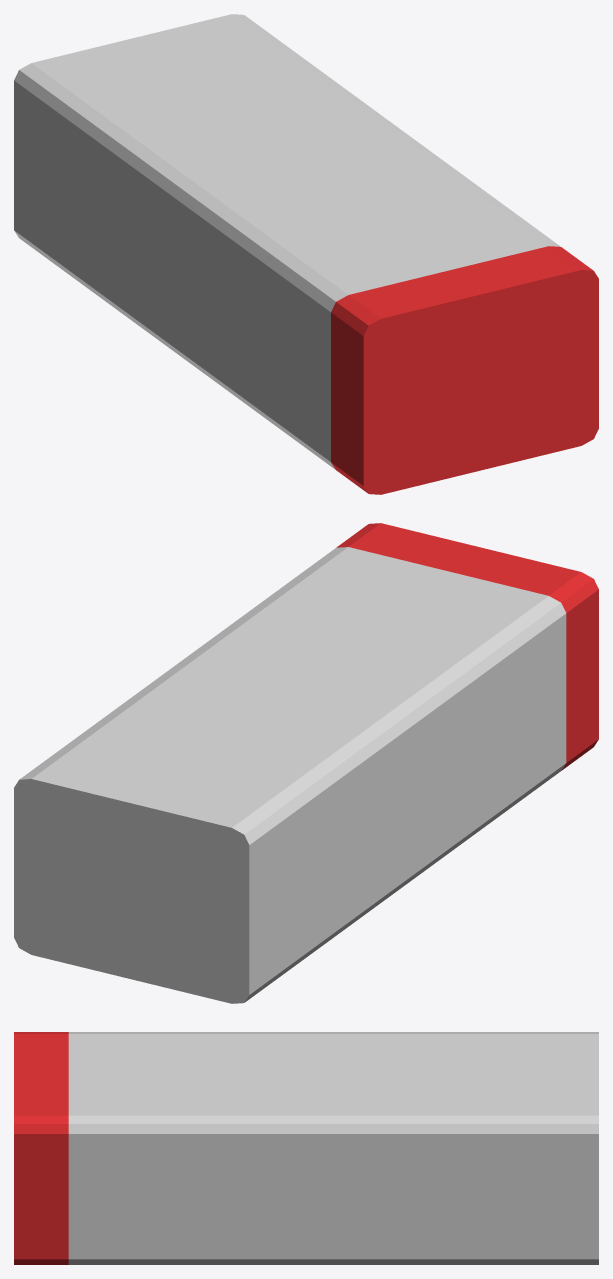
Rendered from Kaugummi.fbx.
The picture shows the model from 3 angles, top to bottom: view 1: azimuth 30°, elevation 25°; view 2: azimuth 150°, elevation 25°; view 3: azimuth 270°, elevation 25°; orthographic projection. The views are drawn at different scales.
Parts seen in each view (by area): view 1: Cube; view 2: Cube; view 3: Cube.
Boxes of the visible parts, box(x1,y1,x2,y2) form: Cube: box(14, 14, 598, 494); Cube: box(14, 523, 598, 1003); Cube: box(14, 1032, 598, 1264).
Bounding box in the file's own units: 7 × 5 × 18.
